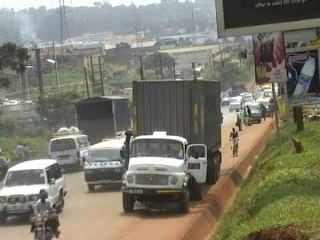Car: (0, 156, 68, 223)
Motorcycle: (24, 189, 67, 239), (0, 146, 15, 184)
